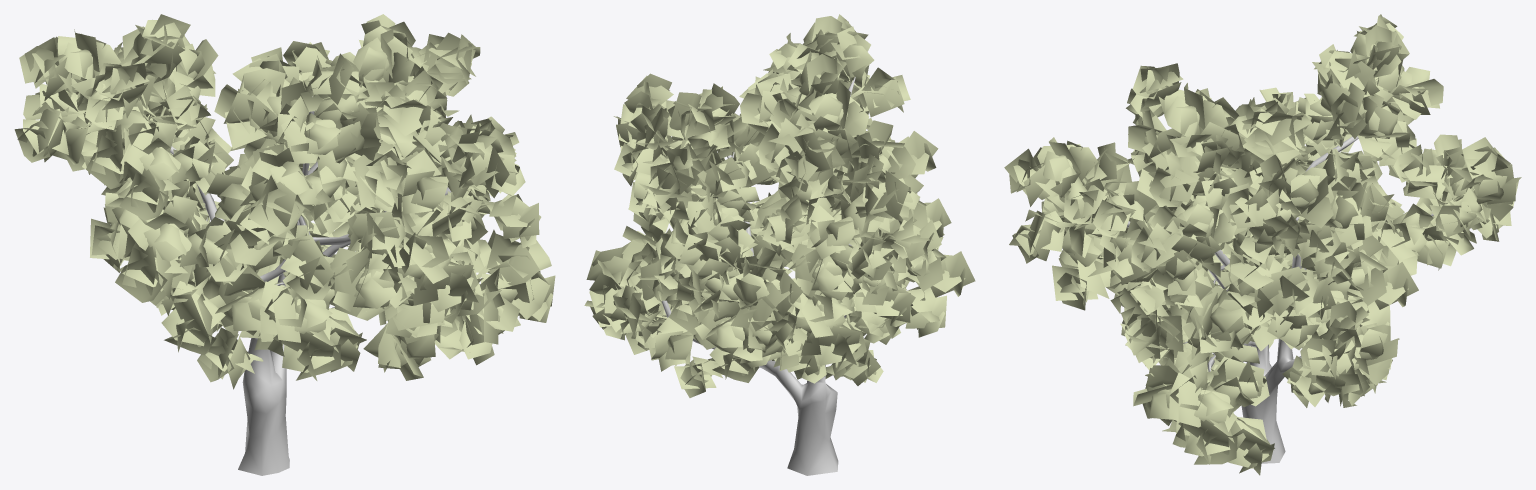
The model's file is Tree_04.FBX.
3 views of the same model, side by side, from view 1: azimuth 30°, elevation 25°; view 2: azimuth 150°, elevation 25°; view 3: azimuth 270°, elevation 25° (orthographic). The views are drawn at different scales.
Parts seen in each view (by area): view 1: tree002; view 2: tree002; view 3: tree002.
Boxes of the visible parts, left/top/right/bottom form: tree002: left=14, top=14, right=555, bottom=475; tree002: left=584, top=14, right=975, bottom=475; tree002: left=1004, top=14, right=1521, bottom=475.
Bounding box in the file's own units: 6.86 × 6.37 × 7.5.
